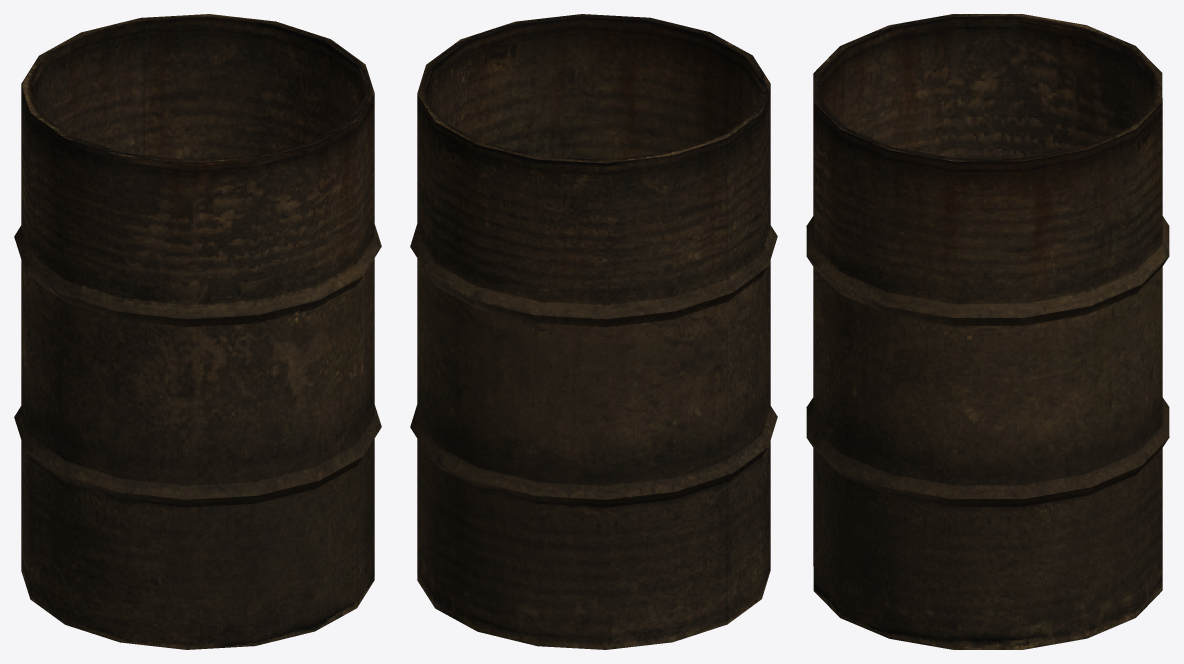
Rendered from metal_barrel_hr_4.glb.
3 views of the same model, side by side, from view 1: azimuth 30°, elevation 25°; view 2: azimuth 150°, elevation 25°; view 3: azimuth 270°, elevation 25° (orthographic).
Parts seen in each view (by area): view 1: metal_barrel_hr_4; view 2: metal_barrel_hr_4; view 3: metal_barrel_hr_4.
Part boxes in pixels (box(x1,y1,x2,y2)): metal_barrel_hr_4: box(14, 14, 381, 649); metal_barrel_hr_4: box(410, 14, 777, 649); metal_barrel_hr_4: box(806, 14, 1169, 649).
Size of the model in its own units: 0.6735 by 1 by 0.6735.
1 material, 1 textured.
